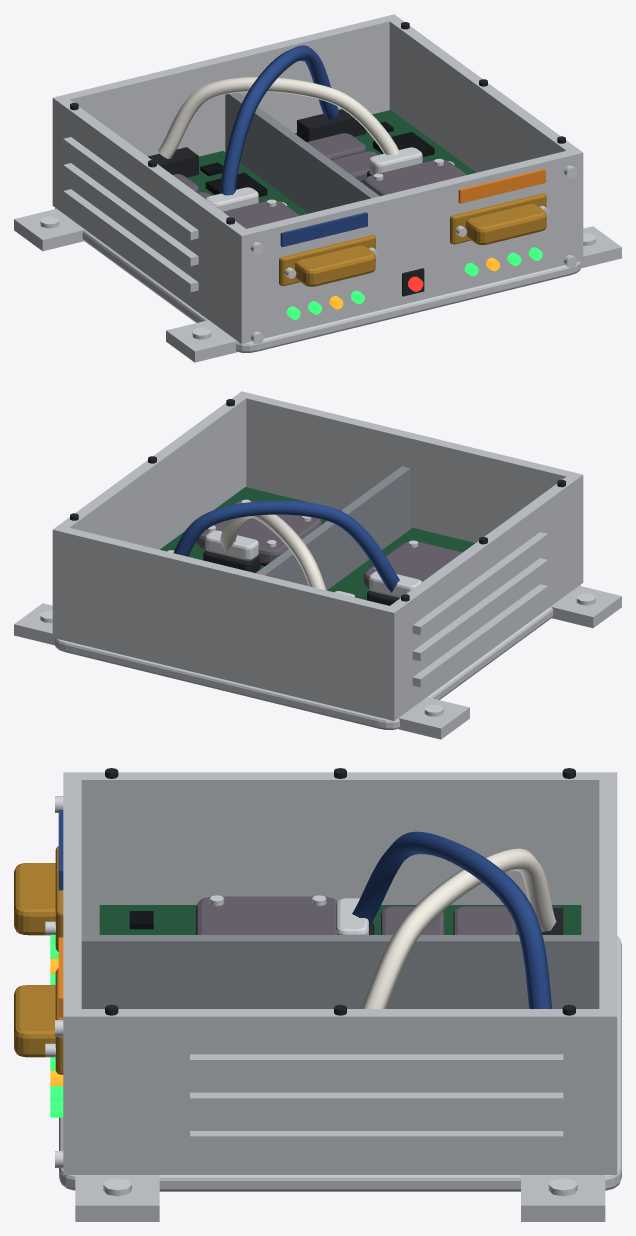
File: computer-redundant.glb
3 views of the same model, one above another, from view 1: azimuth 30°, elevation 25°; view 2: azimuth 150°, elevation 25°; view 3: azimuth 270°, elevation 25° (orthographic). The views are drawn at different scales.
Visible parts, largest first — view 1: enclosure-wall-side (×2), enclosure-wall-front, enclosure-wall-back, enclosure-divider, enclosure-rib (×3), enclosure-floor, enclosure-ears, xstrap-a-to-b, xstrap-b-to-a, front-connector-a-shell, front-connector-b-shell, lane-b-shield-cpu (+16 smaller); view 2: enclosure-wall-back, enclosure-wall-side (×2), enclosure-wall-front, enclosure-divider, enclosure-rib (×3), enclosure-floor, enclosure-ears, xstrap-b-to-a, xstrap-a-to-b, lane-a-shield-cpu, lane-b-shield-cpu, lane-a-pcb (+4 smaller); view 3: enclosure-wall-side (×2), enclosure-divider, enclosure-rib (×3), enclosure-floor, xstrap-b-to-a, enclosure-ears, xstrap-a-to-b, lane-a-shield-cpu, enclosure-wall-back, enclosure-wall-front, lane-a-pcb, front-connector-a-shell (+7 smaller).
Boxes of the visible parts, x1=… form: enclosure-wall-side (×2): x1=52, y1=14, x2=583, y2=343; enclosure-wall-front: x1=246, y1=151, x2=572, y2=338; enclosure-wall-back: x1=63, y1=17, x2=389, y2=156; enclosure-divider: x1=225, y1=92, x2=379, y2=213; enclosure-rib (×3): x1=63, y1=137, x2=198, y2=292; enclosure-floor: x1=55, y1=208, x2=580, y2=352; enclosure-ears: x1=14, y1=208, x2=621, y2=362; xstrap-a-to-b: x1=158, y1=77, x2=399, y2=158; xstrap-b-to-a: x1=220, y1=45, x2=338, y2=195; front-connector-a-shell: x1=295, y1=245, x2=375, y2=286; front-connector-b-shell: x1=465, y1=203, x2=546, y2=244; lane-b-shield-cpu: x1=364, y1=159, x2=466, y2=195; enclosure-wall-back: x1=63, y1=528, x2=389, y2=718; enclosure-wall-side (×2): x1=52, y1=391, x2=583, y2=720; enclosure-wall-front: x1=246, y1=394, x2=572, y2=542; enclosure-divider: x1=256, y1=466, x2=410, y2=590; enclosure-rib (×3): x1=412, y1=532, x2=547, y2=687; enclosure-floor: x1=55, y1=585, x2=580, y2=729; enclosure-ears: x1=14, y1=585, x2=621, y2=739; xstrap-b-to-a: x1=173, y1=500, x2=399, y2=592; xstrap-a-to-b: x1=220, y1=514, x2=326, y2=590; lane-a-shield-cpu: x1=364, y1=541, x2=462, y2=588; lane-b-shield-cpu: x1=196, y1=500, x2=321, y2=564; lane-a-pcb: x1=327, y1=528, x2=475, y2=600; enclosure-wall-side (×2): x1=63, y1=772, x2=617, y2=1174; enclosure-divider: x1=81, y1=935, x2=599, y2=1008; enclosure-rib (×3): x1=190, y1=1054, x2=563, y2=1148; enclosure-floor: x1=59, y1=936, x2=621, y2=1191; xstrap-b-to-a: x1=352, y1=831, x2=552, y2=1008; enclosure-ears: x1=75, y1=1175, x2=605, y2=1221; xstrap-a-to-b: x1=361, y1=848, x2=556, y2=1008; lane-a-shield-cpu: x1=196, y1=896, x2=337, y2=934; enclosure-wall-back: x1=599, y1=780, x2=617, y2=1008; enclosure-wall-front: x1=63, y1=780, x2=81, y2=1008; lane-a-pcb: x1=99, y1=905, x2=581, y2=934; front-connector-a-shell: x1=14, y1=863, x2=55, y2=935.
Bounding box in the file's own units: 0.12 × 0.0407 × 0.101.
